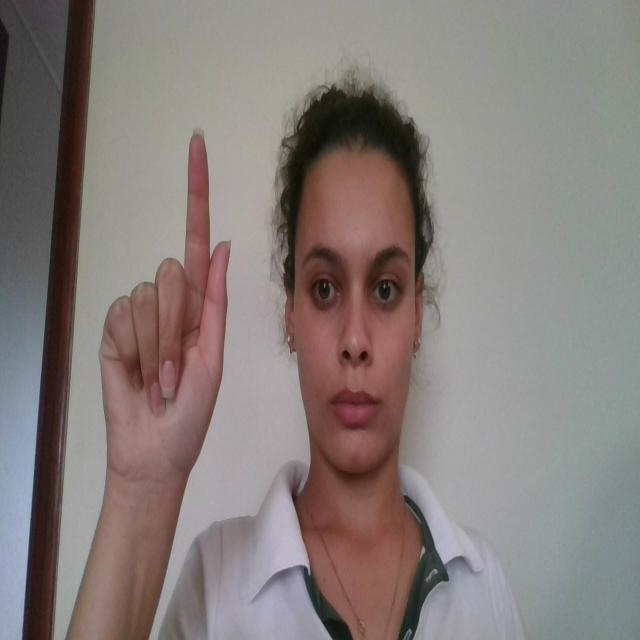G: (94, 132, 237, 482)
